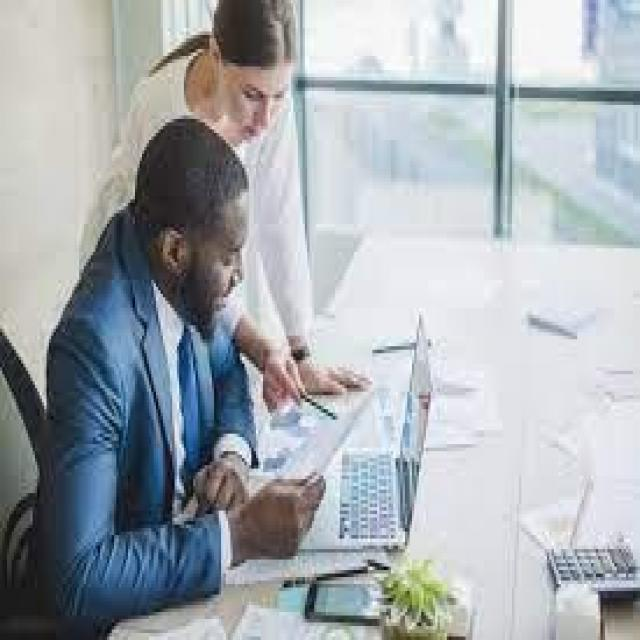person: (26, 136, 384, 619), (72, 0, 363, 420)
